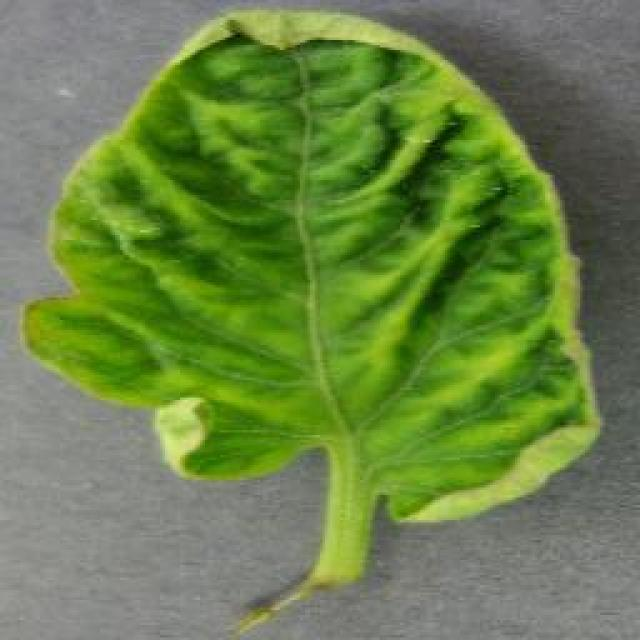Tomato yellow virus leaf: (24, 6, 604, 526)
